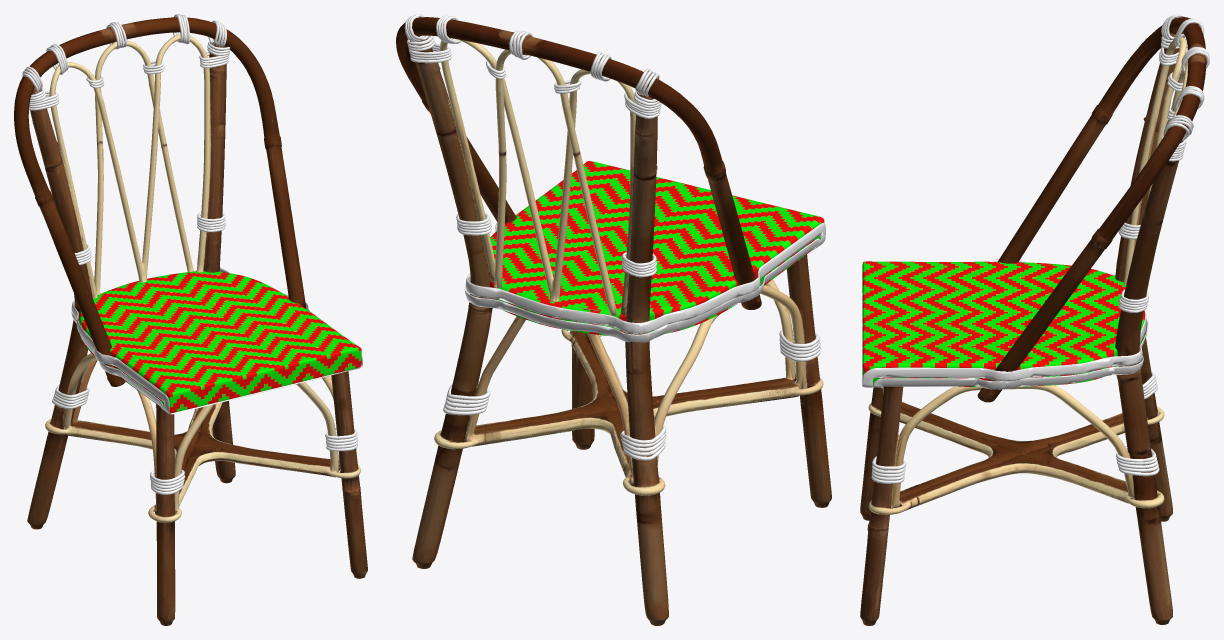
The model's file is harpe-chevron.glb.
The picture shows the model from 3 angles, left to right: view 1: azimuth 30°, elevation 25°; view 2: azimuth 150°, elevation 25°; view 3: azimuth 270°, elevation 25°; orthographic projection. The views are drawn at different scales.
Parts seen in each view (by area): view 1: mesh_structure, mesh_tressage, mesh_laniere; view 2: mesh_structure, mesh_tressage, mesh_laniere; view 3: mesh_structure, mesh_tressage, mesh_laniere.
Part boxes in pixels (x1,y1,x2,y2): mesh_structure: [14, 17, 367, 625]; mesh_tressage: [79, 271, 361, 413]; mesh_laniere: [22, 14, 362, 494]; mesh_structure: [396, 17, 831, 625]; mesh_tressage: [490, 161, 824, 336]; mesh_laniere: [404, 14, 825, 460]; mesh_structure: [860, 17, 1206, 625]; mesh_tressage: [862, 261, 1145, 386]; mesh_laniere: [862, 14, 1209, 483].
Bounding box in the file's own units: 0.5059 × 0.9057 × 0.5489.
3 materials, 2 textured.
